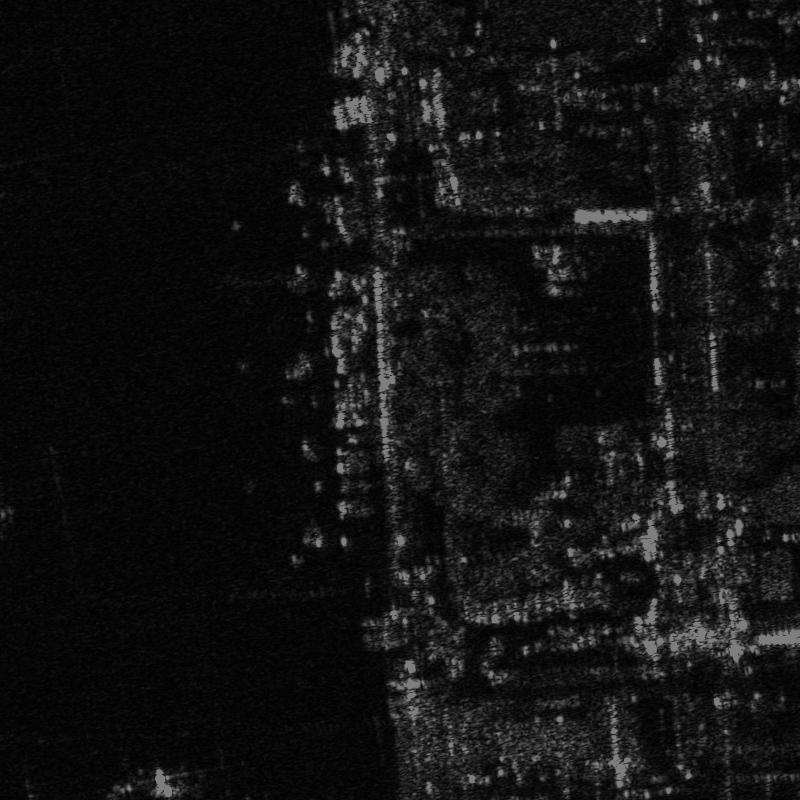Boeing787: (127, 764, 197, 799)
